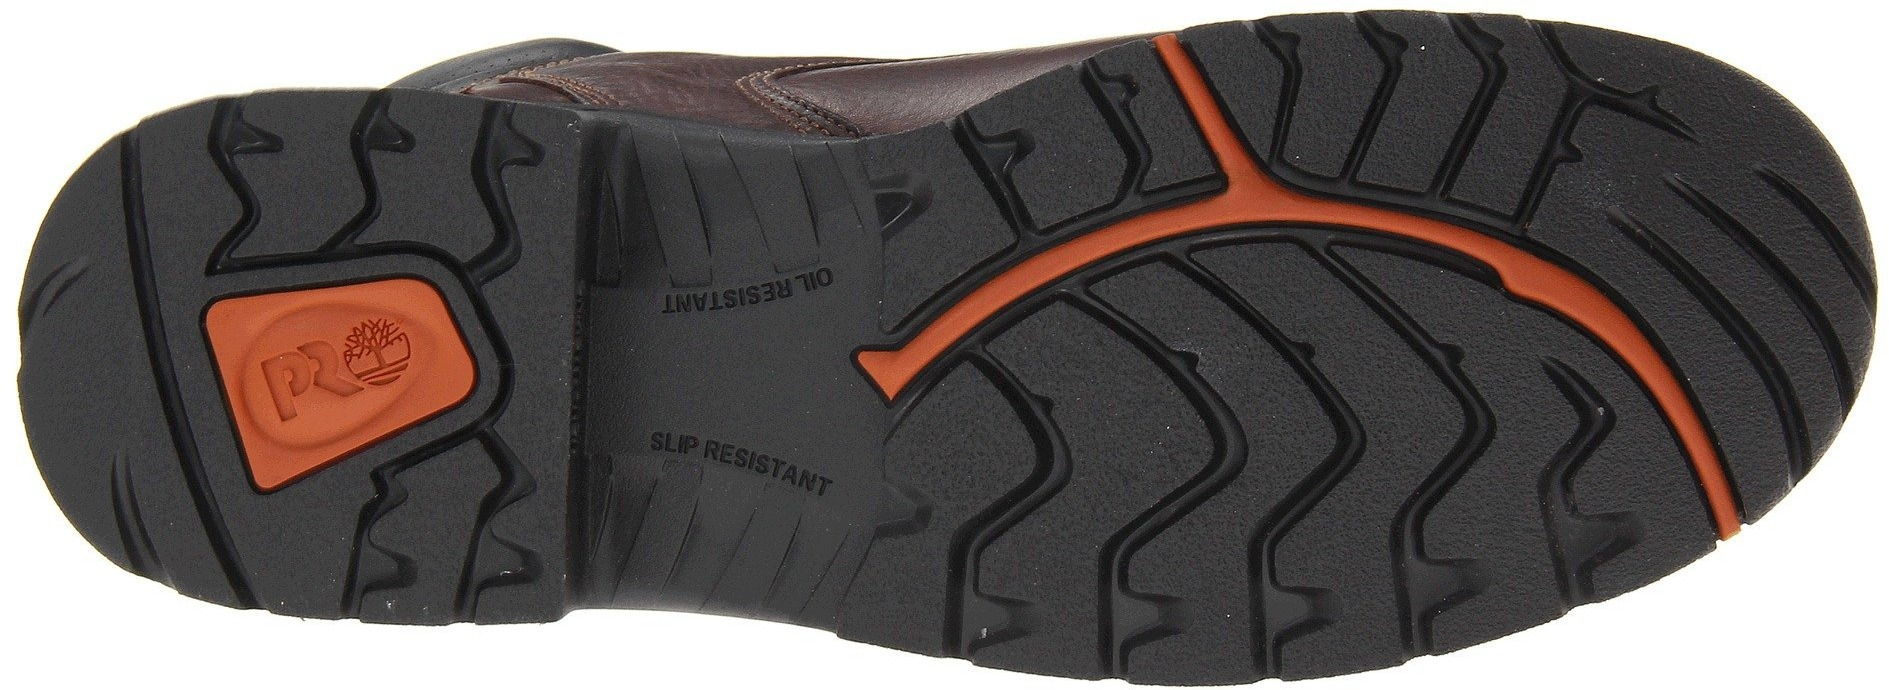chevron: (1112, 254, 1514, 578)
exclude: (551, 57, 891, 647)
text: (263, 326, 359, 421)
